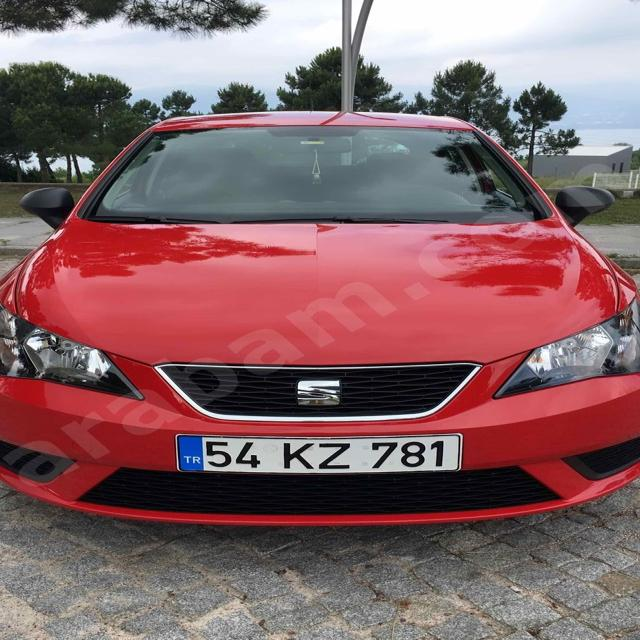license_plate: (178, 434, 463, 474)
